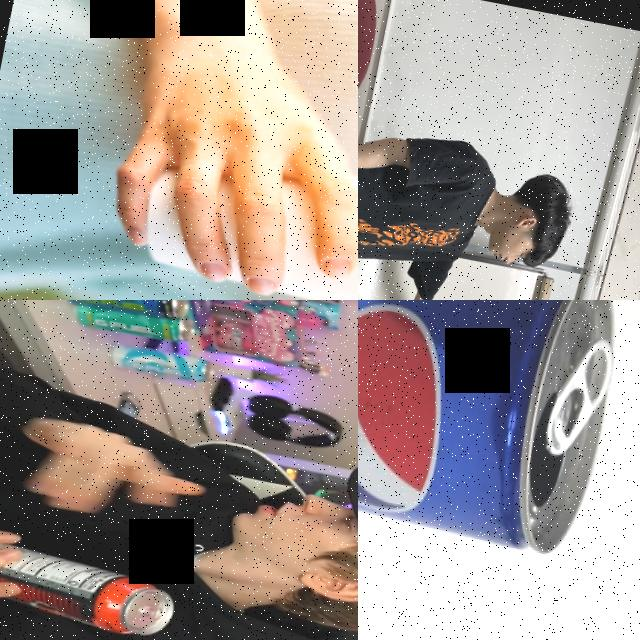can: (358, 300, 631, 563), (0, 531, 178, 640)
cup: (131, 125, 358, 300)
